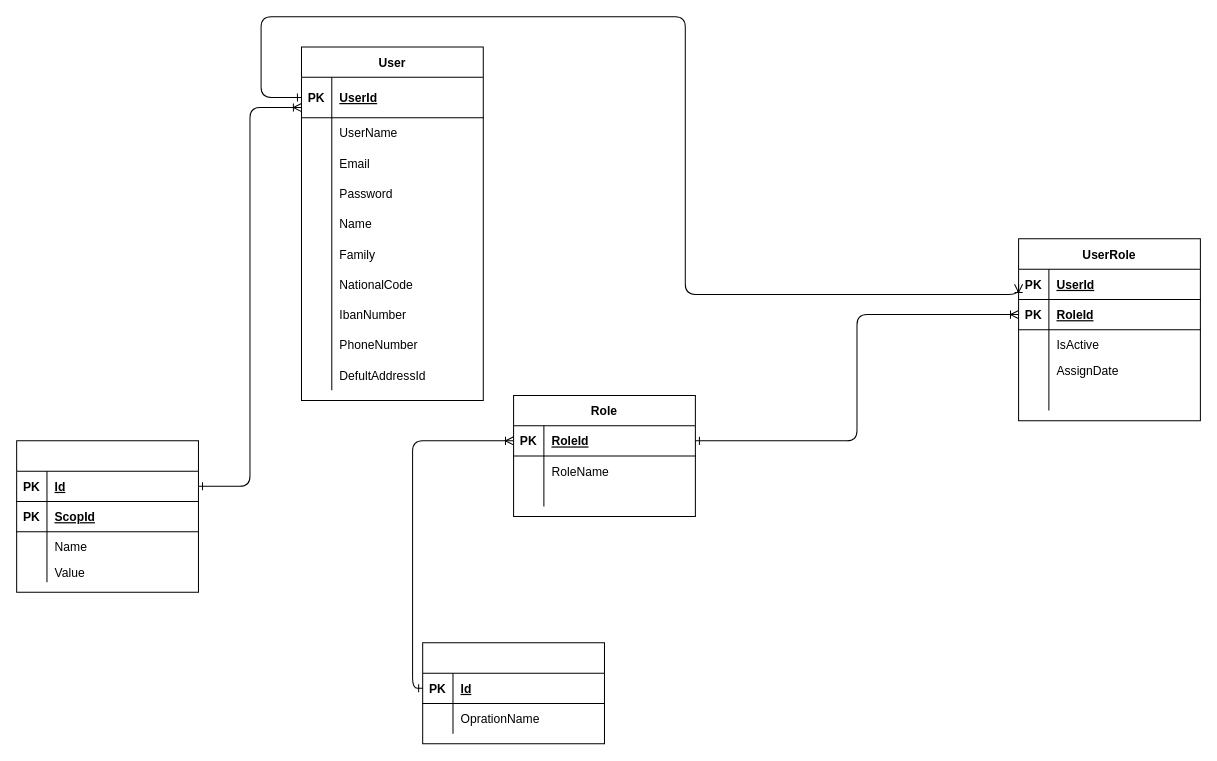
Some shapes in this 1217 by 761 pixel diagram are drawn without their labels. The box of each missing label's shape, as (x1, y1, x2, y2) in pixels:
AccessList: (422, 642, 604, 744)
Setting: (16, 440, 198, 592)
